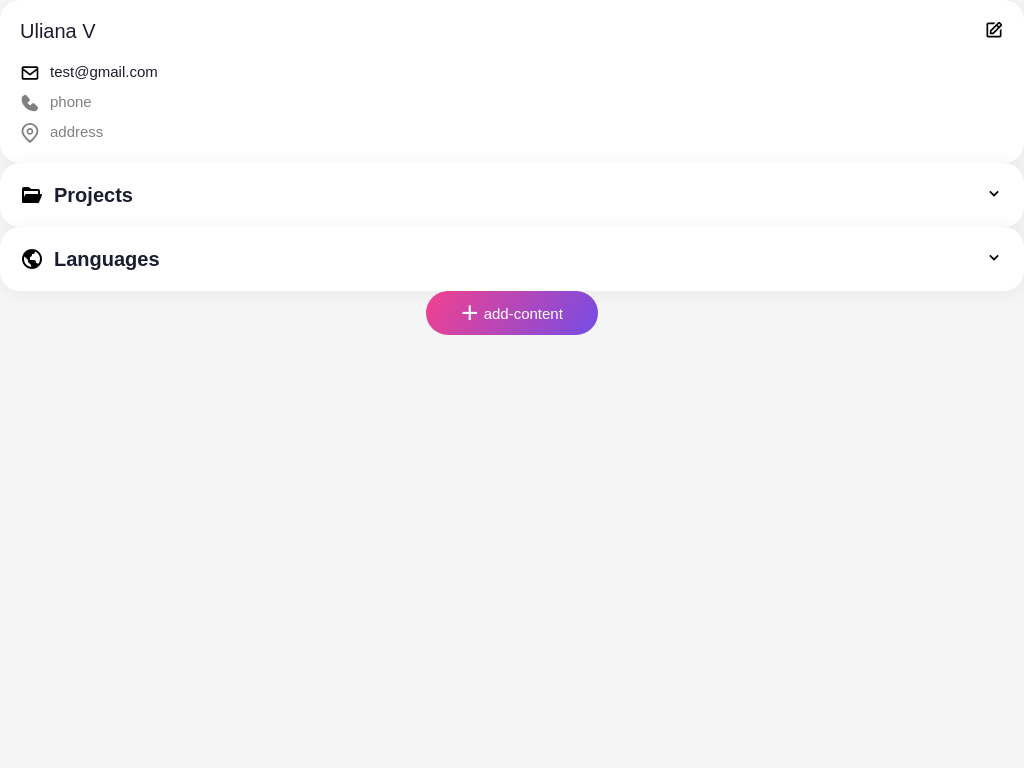
Content › should open personal details form and close it after cancel btn is clicked
The image size is (1024, 768).
What coordinates should you click on to do the following:
click the button with aria-label "personalDetails.sectionName"
I would click on:
 (512, 82)
Its box is [0,0,1023,163].
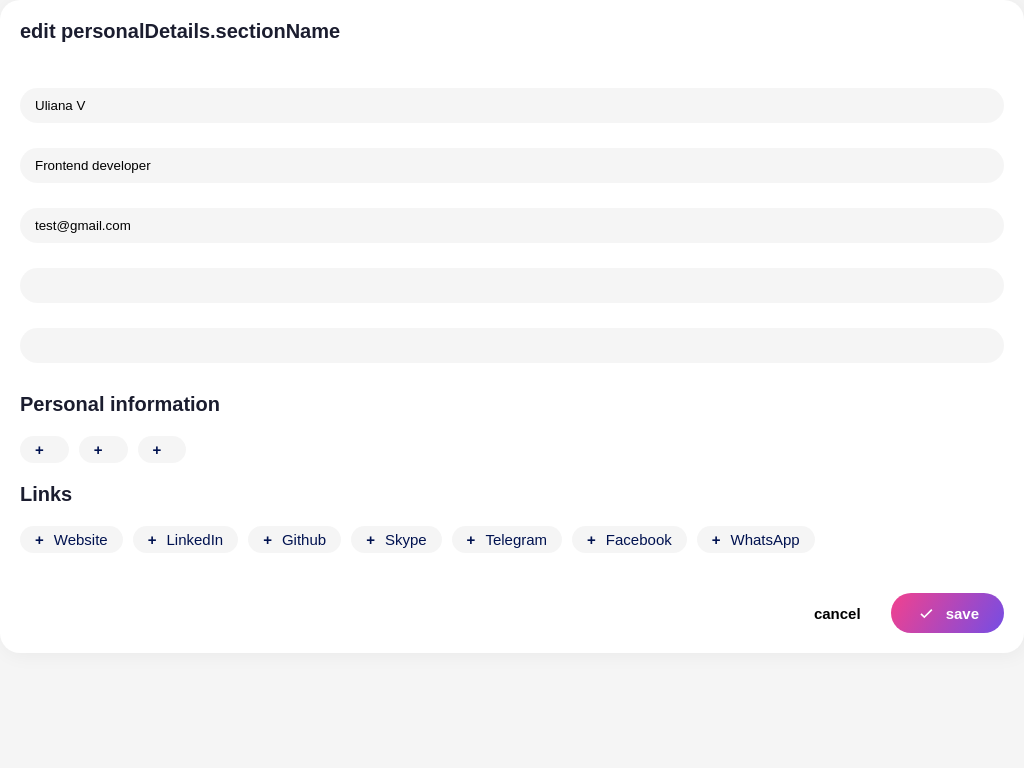
Now the form named "edit personalDetails.sectionName" is shown
Now the button "save" is shown, box [891,593,1004,633]
Now the button "cancel" is shown
What coordinates should you click on to do the following:
click the button "cancel"
I would click on:
 (837, 613)
Its box is [804,593,871,633].
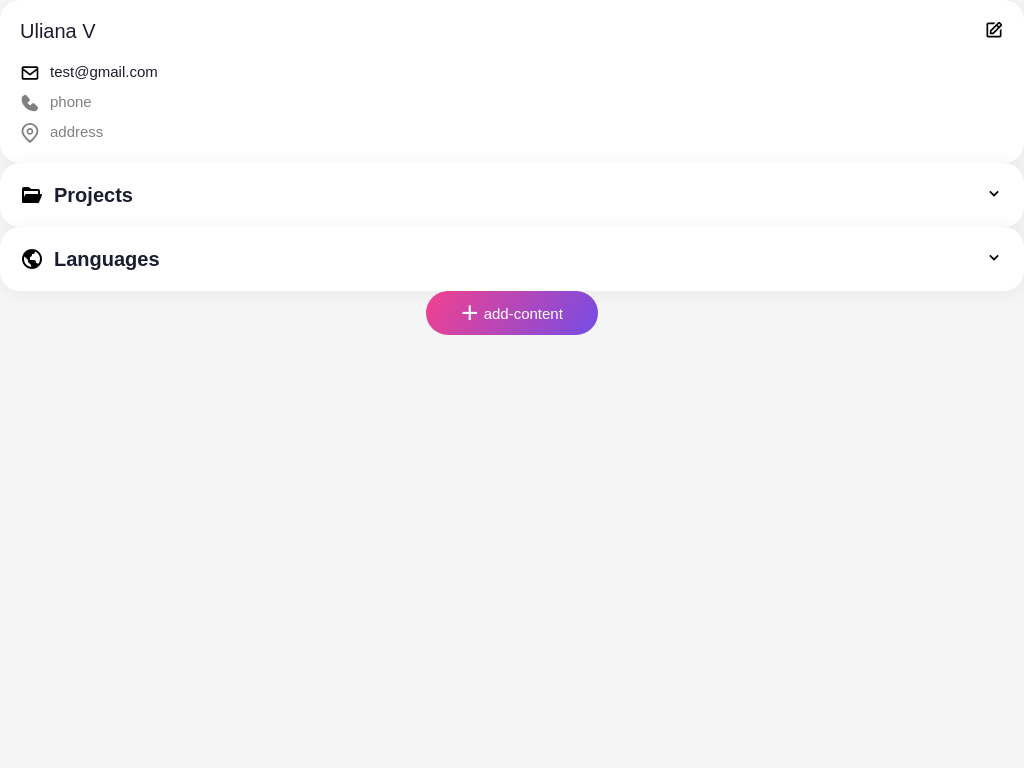
Now the heading "edit personalDetails.sectionName" is gone
